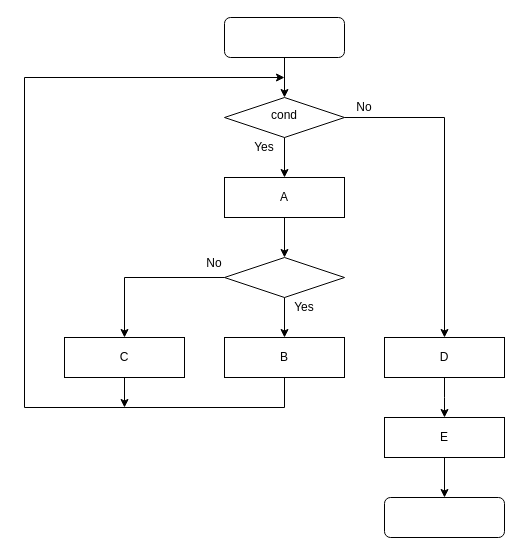
This 522x555 diagram has some shape labels left out. Here are the shapes that lost their labels. From the top down, the centre of each, then its label:
At (284,37): "Start".
At (284,277): "cond_b".
At (444,517): "End".
